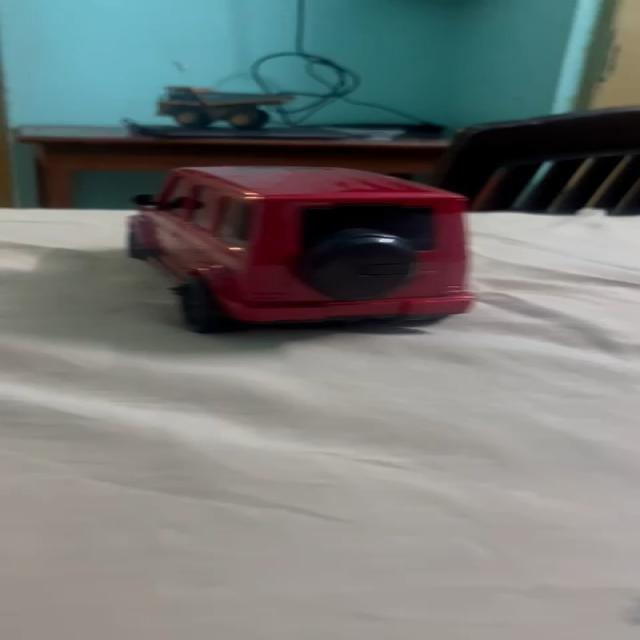dump_truck: (154, 77, 292, 132)
light_vehicle: (110, 162, 478, 334)
